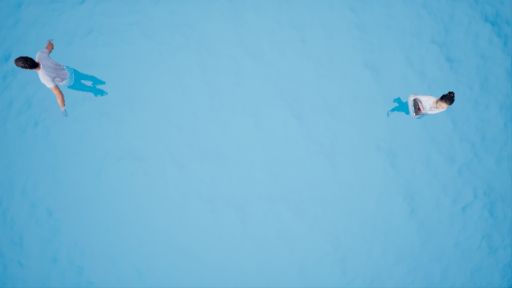person: (11, 41, 117, 116), (385, 86, 461, 124)
